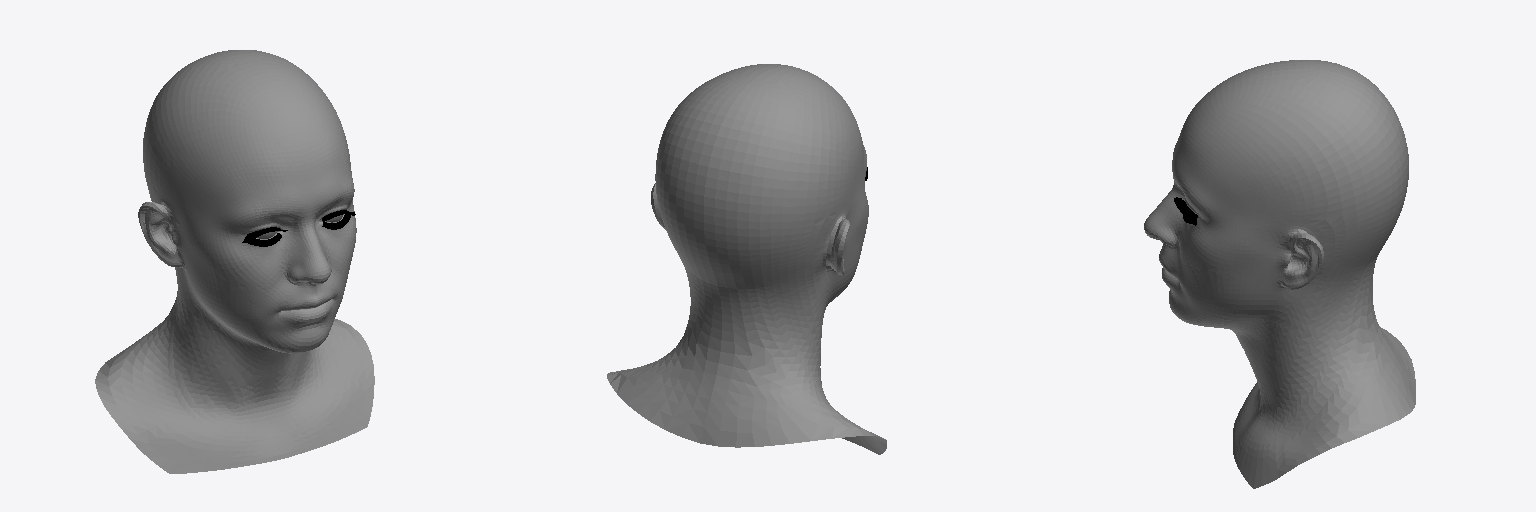
File: identity093.obj
3 renders of one model, left to right at view 1: azimuth 30°, elevation 25°; view 2: azimuth 150°, elevation 25°; view 3: azimuth 270°, elevation 25°, orthographic.
Size of the model in its own units: 24.83 by 33.81 by 22.33.